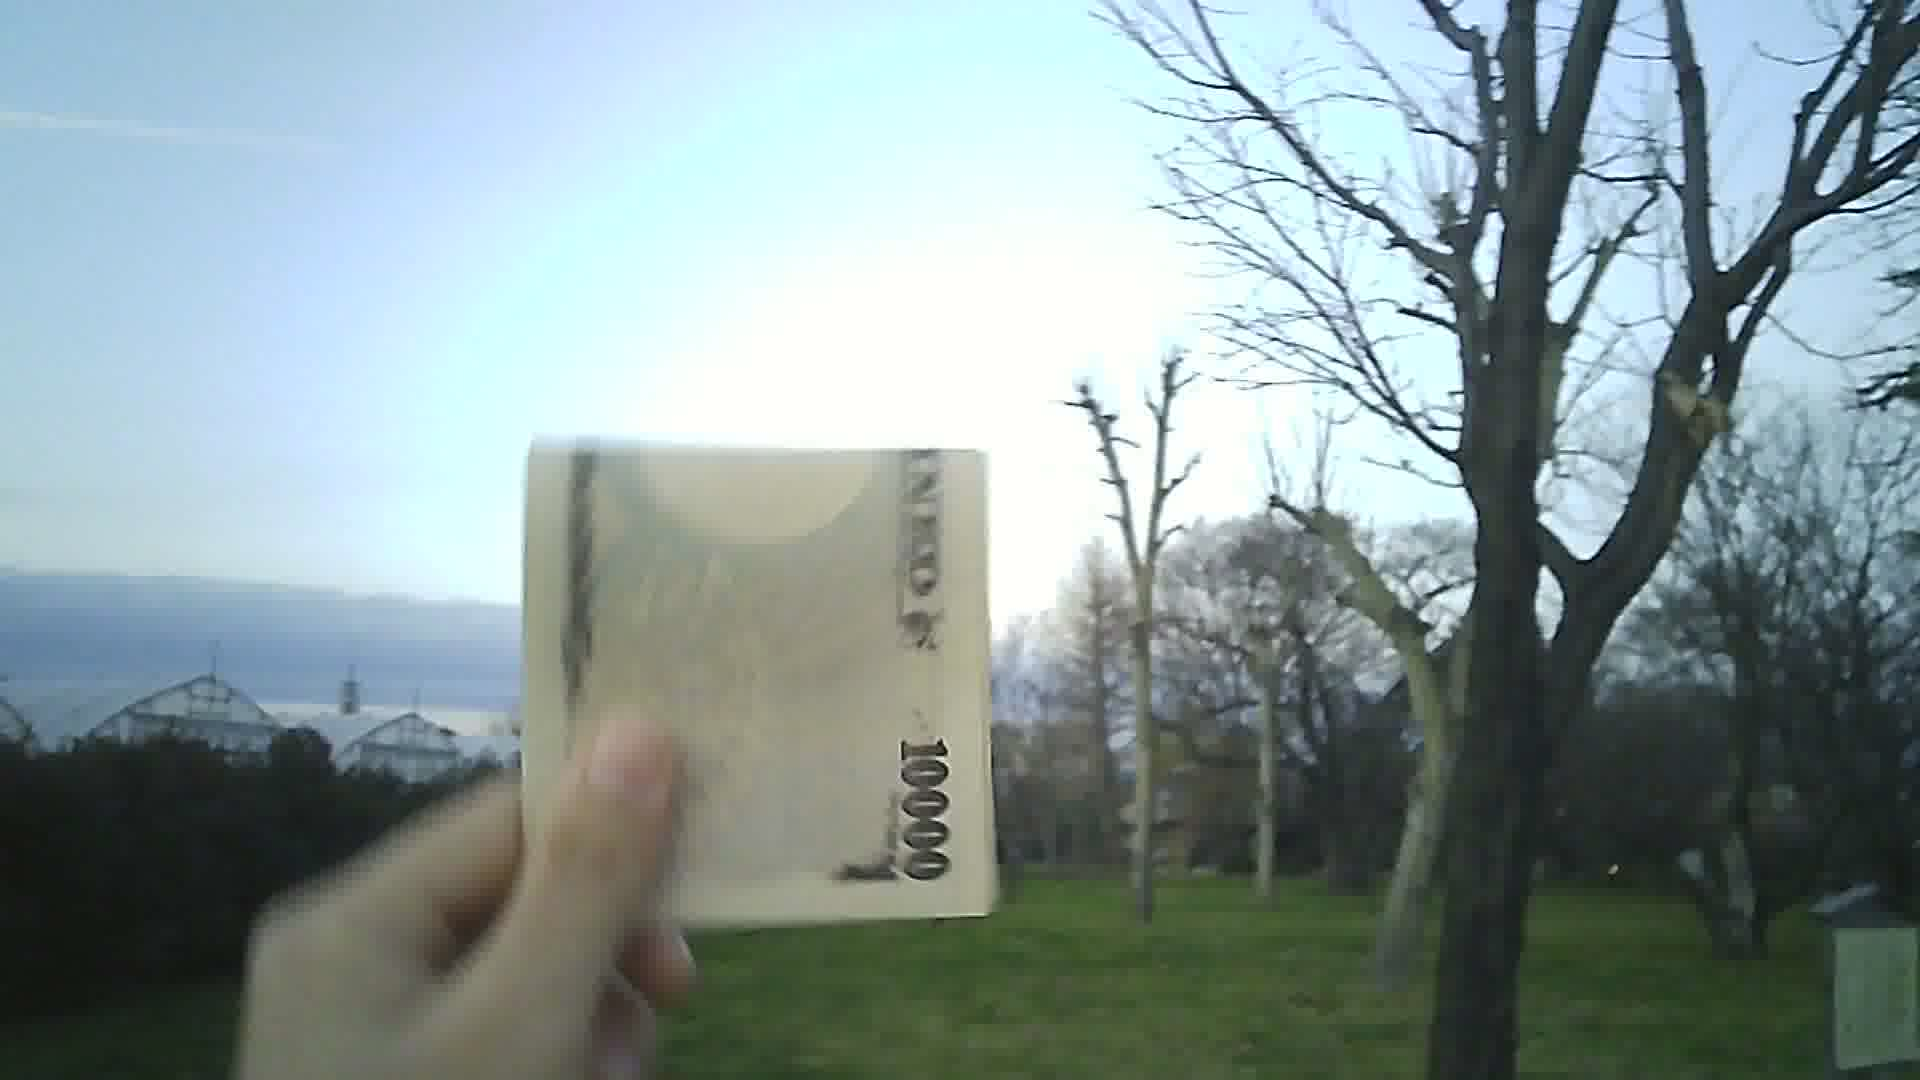10,000 Yen: (505, 406, 1025, 935)
